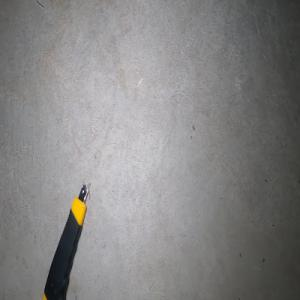Cutter: (42, 183, 89, 300)
